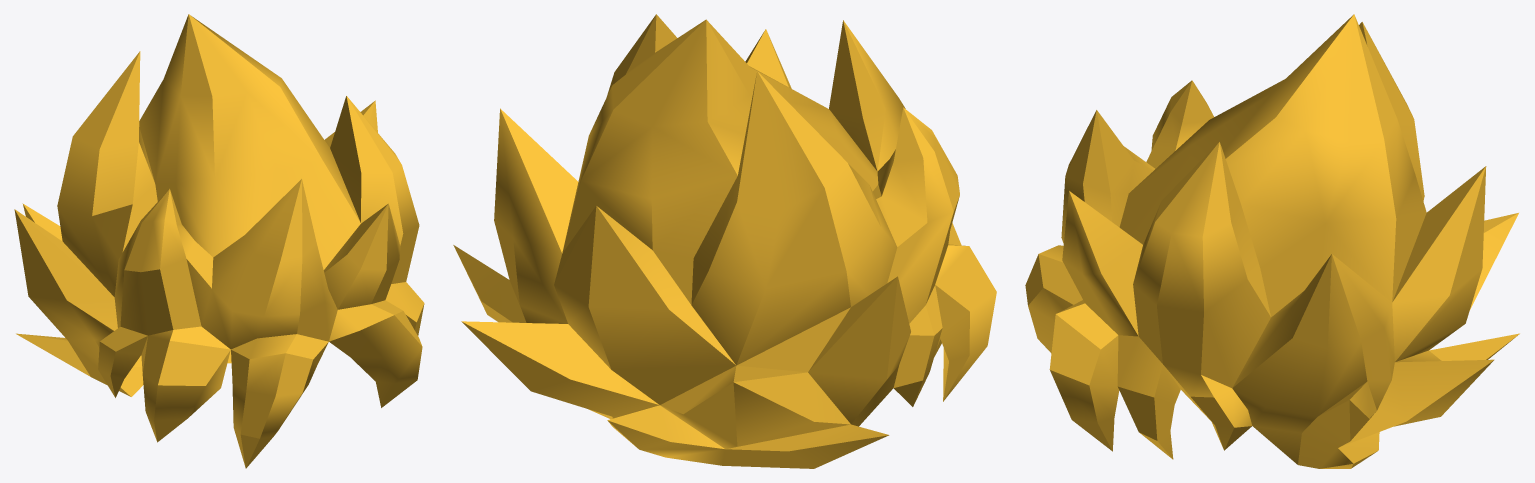
Rendered from sgk_hair.fbx.
3 views of the same model, side by side, from view 1: azimuth 30°, elevation 25°; view 2: azimuth 150°, elevation 25°; view 3: azimuth 270°, elevation 25° (orthographic). The views are drawn at different scales.
Parts seen in each view (by area): view 1: sgk_hair; view 2: sgk_hair; view 3: sgk_hair.
Part boxes in pixels (x1,y1,x2,y2): sgk_hair: (14,14,424,468); sgk_hair: (453,14,996,468); sgk_hair: (1025,14,1519,468).
Bounding box in the file's own units: 157 × 144 × 158.
